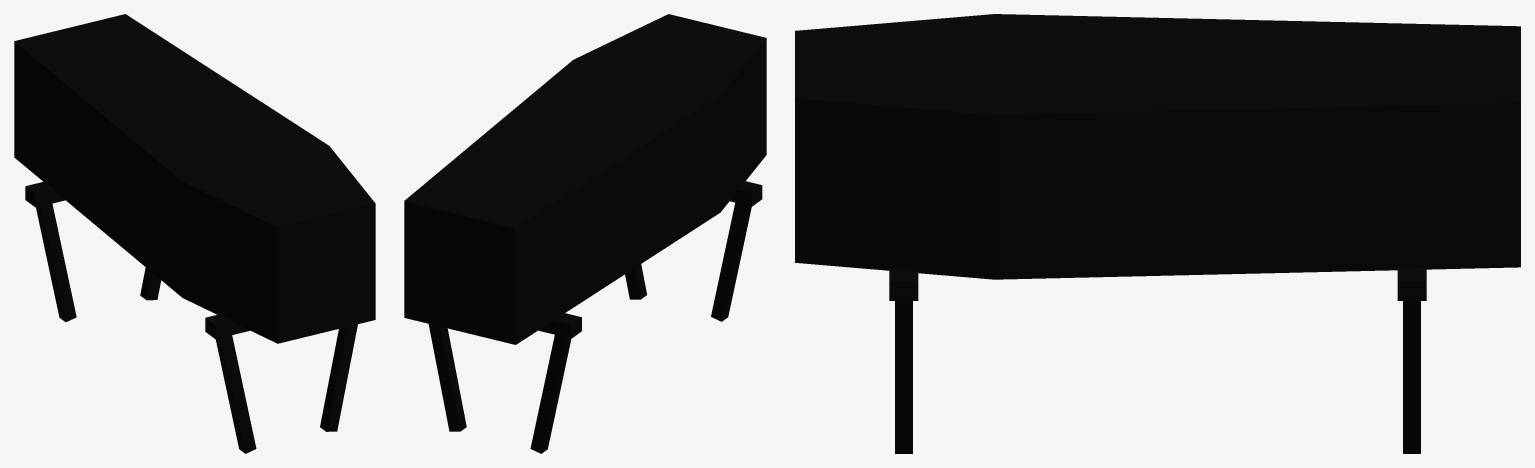
Rendered from SM_coffin.fbx.
3 renders of one model, left to right at view 1: azimuth 30°, elevation 25°; view 2: azimuth 150°, elevation 25°; view 3: azimuth 270°, elevation 25°, orthographic. The views are drawn at different scales.
Visible parts, largest first — view 1: coffin, coffin_lid; view 2: coffin, coffin_lid; view 3: coffin, coffin_lid.
Part boxes in pixels (bbox=[...]): coffin: bbox=[14, 53, 375, 453]; coffin_lid: bbox=[14, 14, 375, 238]; coffin: bbox=[404, 50, 766, 453]; coffin_lid: bbox=[404, 14, 766, 239]; coffin: bbox=[795, 115, 1520, 453]; coffin_lid: bbox=[795, 14, 1520, 131].
Size of the model in its own units: 0.7 by 1.09 by 2.
